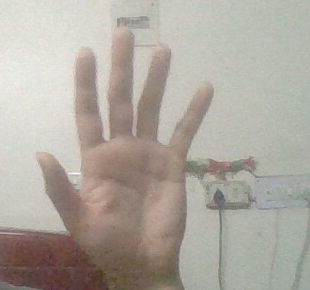move: (31, 22, 240, 290)
